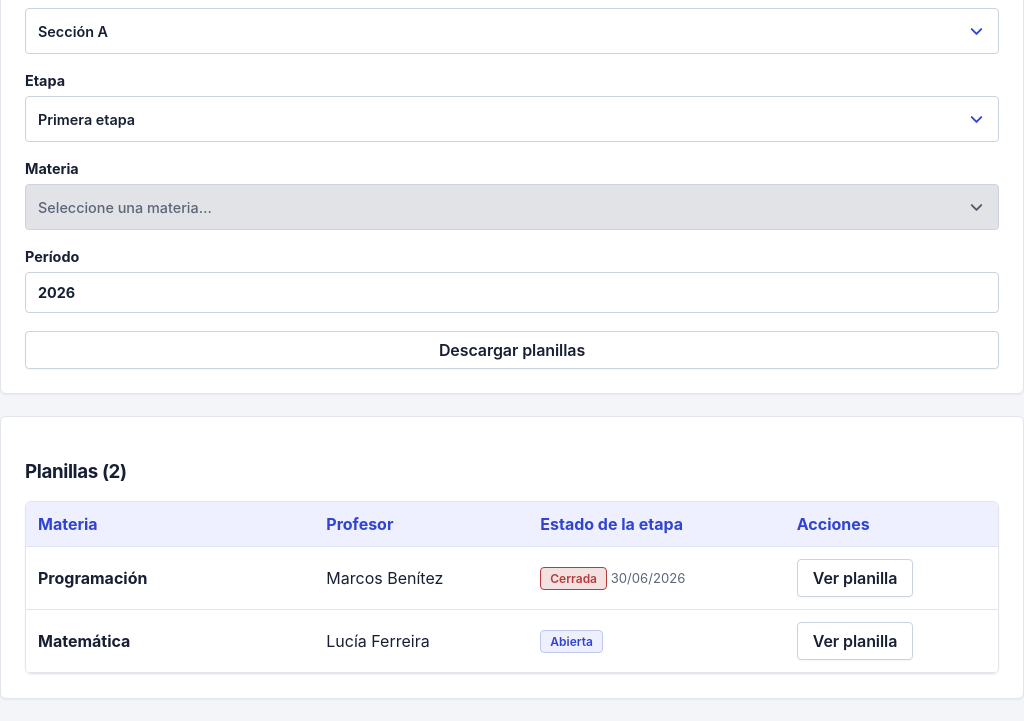
PlanillaDetalleView › sólo ofrece reabrir una etapa que está cerrada
The image size is (1024, 721).
(page scrolled)
What coordinates should you click on to do the following:
click the button "Ver planilla" in the row of "Matemática"
I would click on:
 (855, 641)
Its box is [797,622,913,660].
(page scrolled)
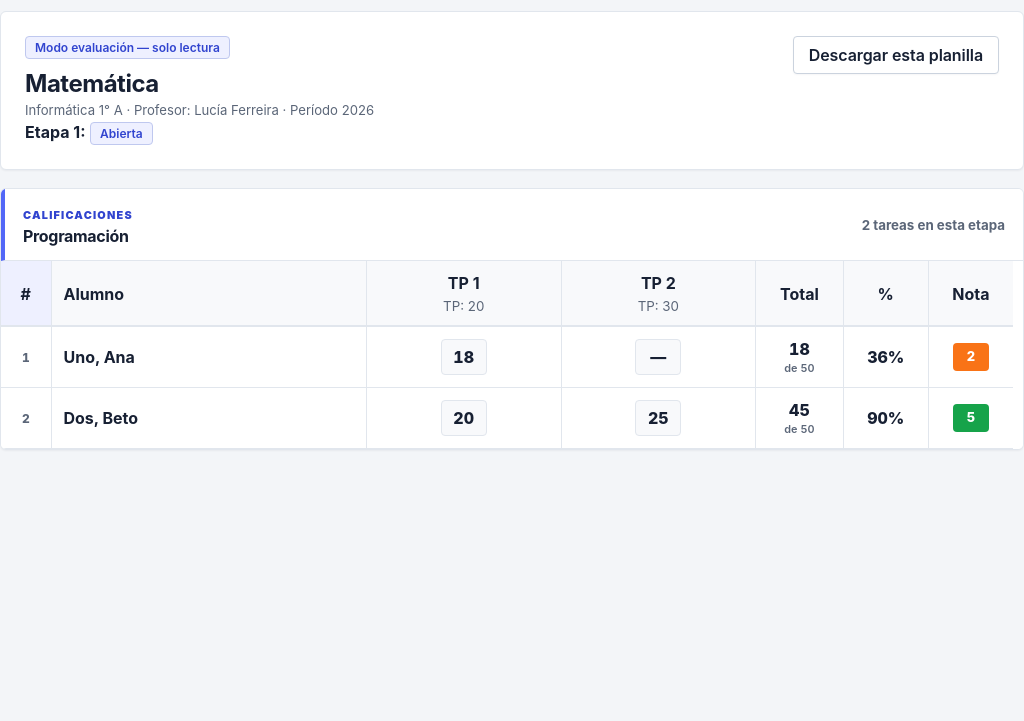
Result: the text "Modo evaluación — solo lectura" is shown at [25,36,230,59]
Result: the button "Reabrir Etapa" is gone
